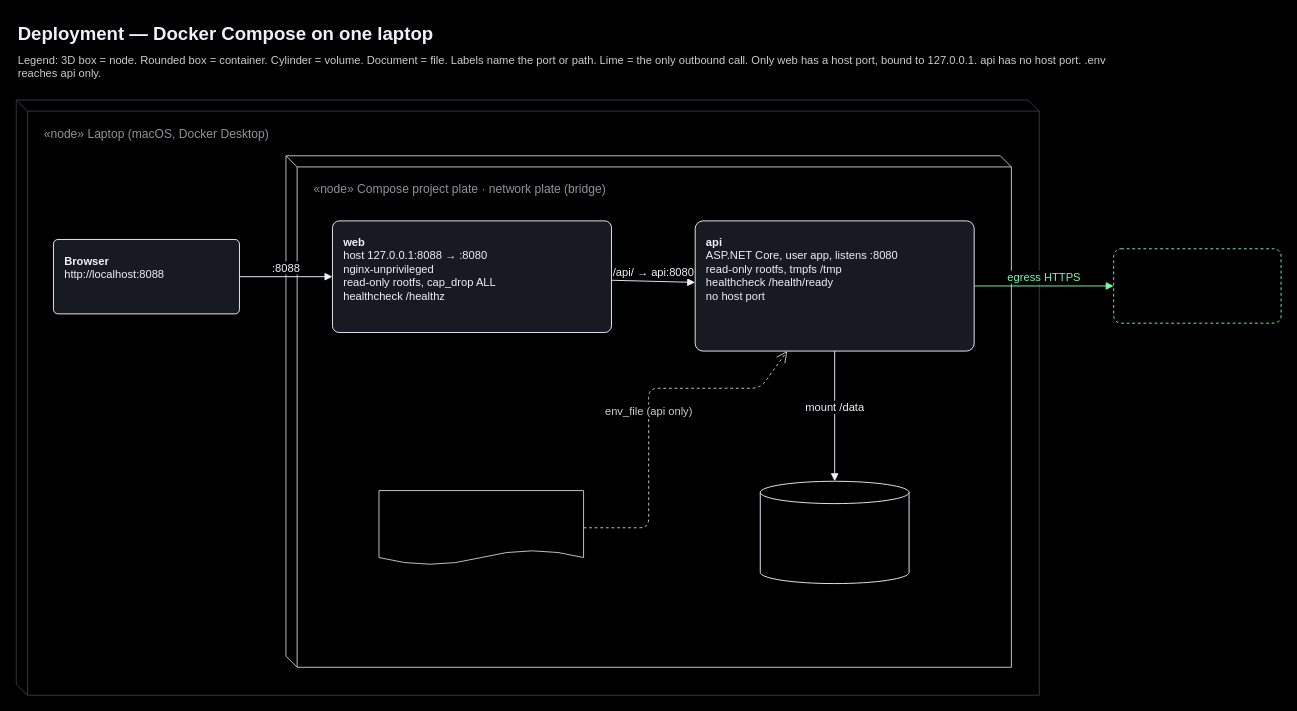
The diagram is 1297 pixels wide and 711 high, and some of its shapes have lost their labels. Here are the shapes that lost their labels. From the top down, the centre of each, then its label:
the point at 1197,285: api.x.ai HTTPS :443
the point at 481,527: .env (gitignored) XAI_API_KEY, GROK_MODEL
the point at 834,532: volume plate-data /data/plate.db /data/backups/
